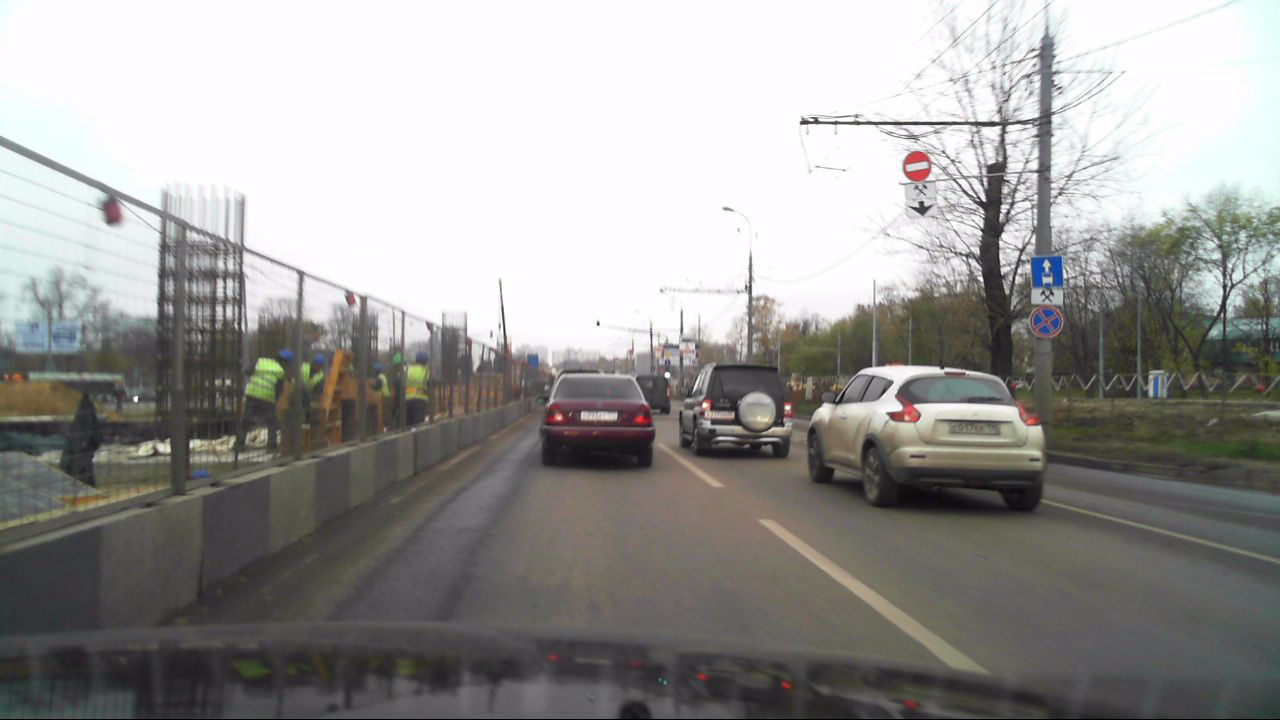No Parking: (1028, 306, 1062, 338)
